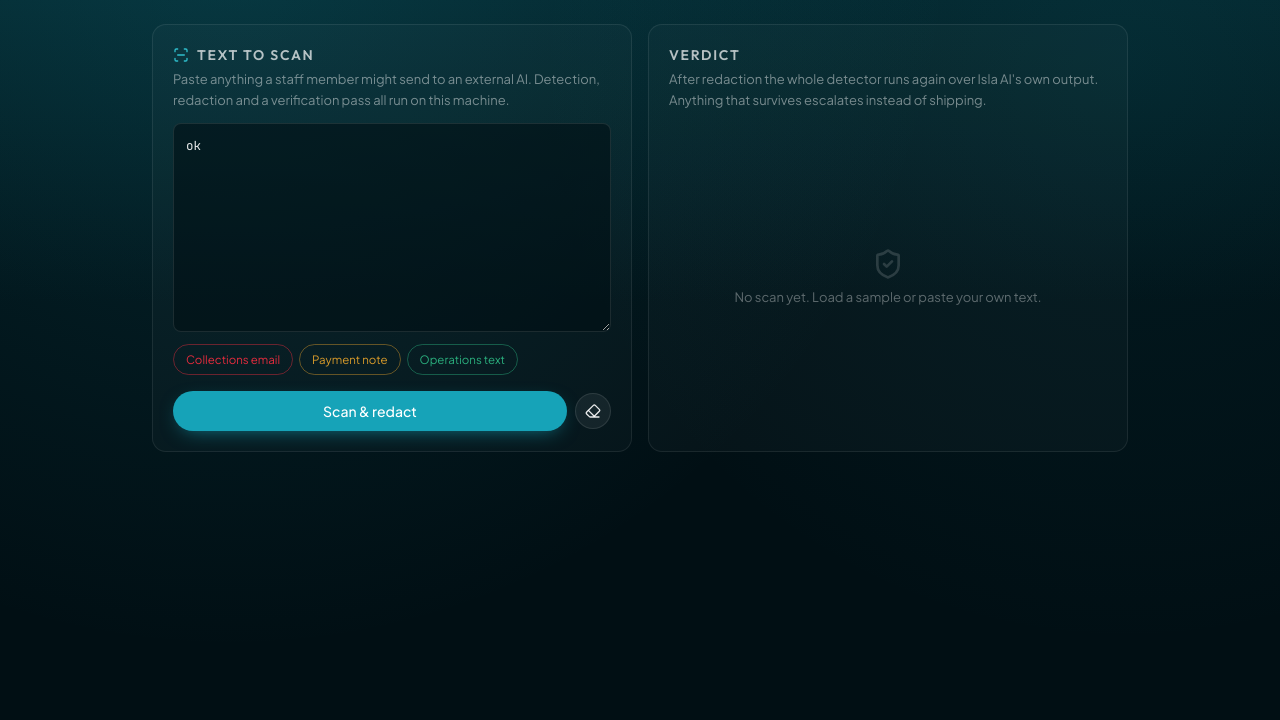
it: EgressGuard › flags non-zero residual leakage rather than rounding it away
The image size is (1280, 720).
Replace the text in the text box named "Text to scan for personal information" with "sensitive" at (392, 228), box [173,123,611,332]
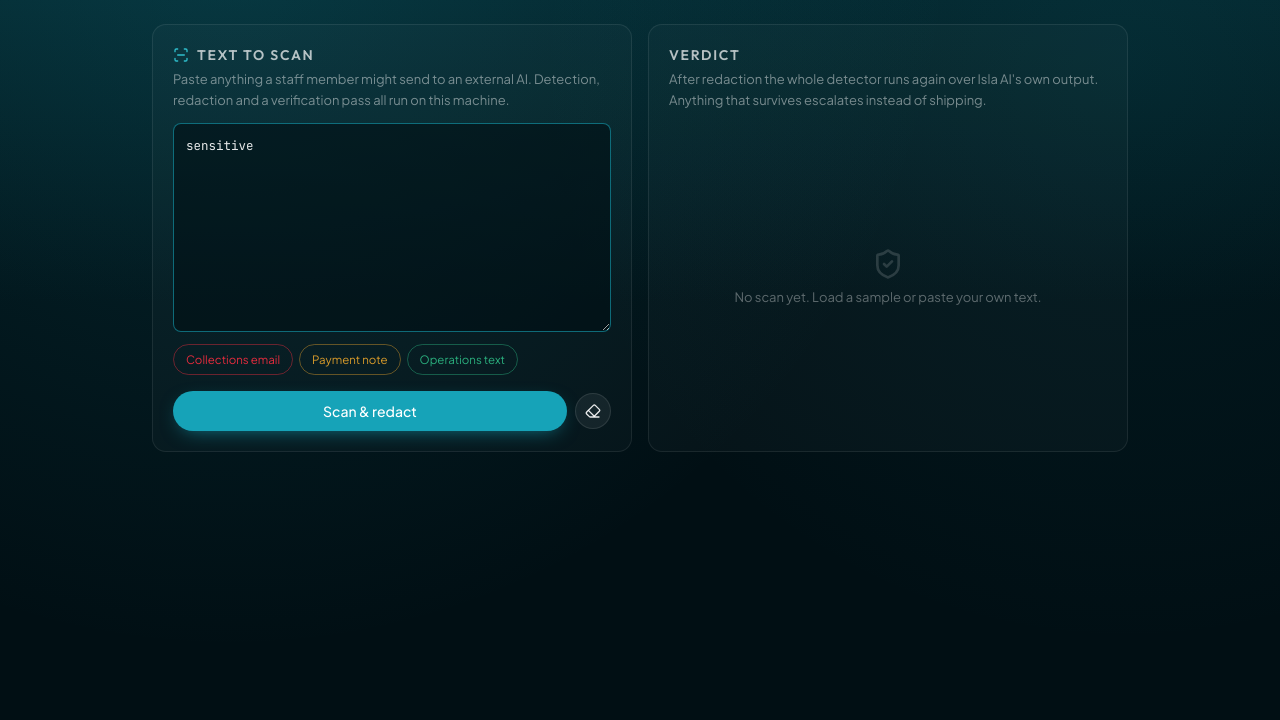
Click the button "Scan & redact" at (370, 411), box [173,391,567,431]
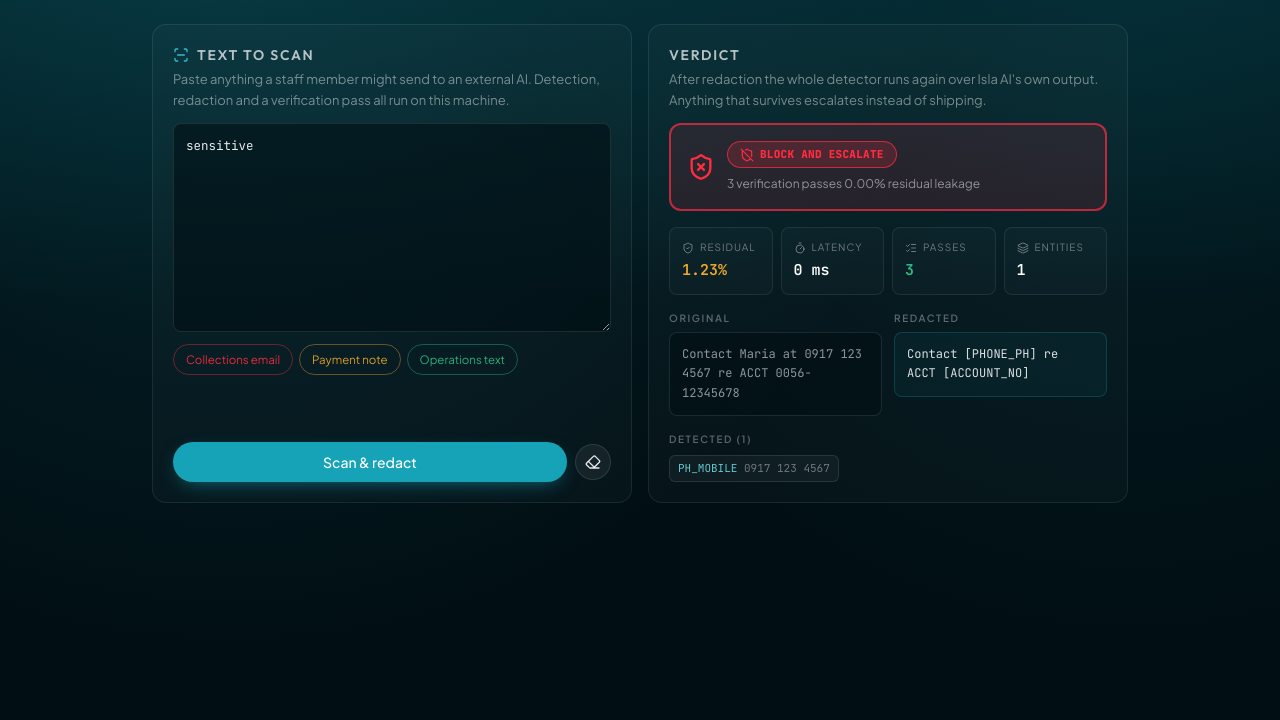
Result: the text "1.23%" is shown at [682,260,727,280]
